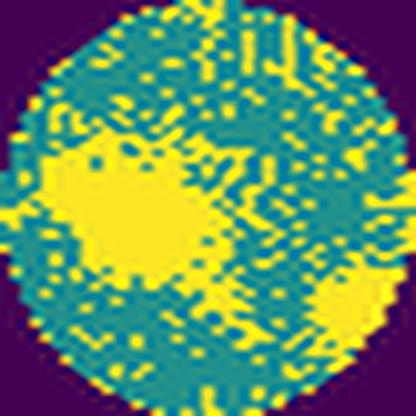Loc: (38, 126, 278, 347), (296, 250, 405, 367)
